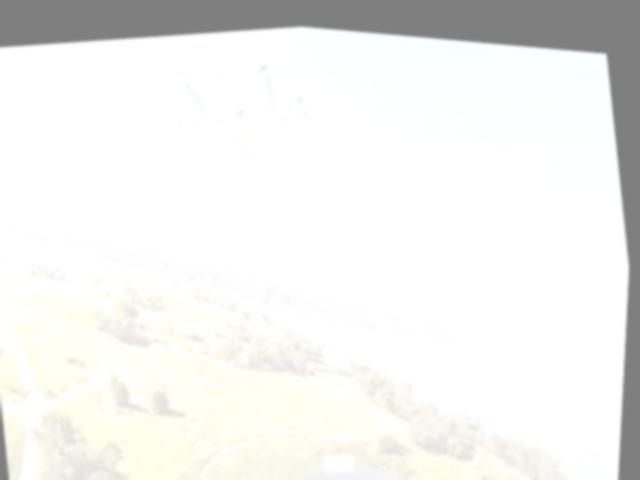iha: (113, 8, 384, 183)
